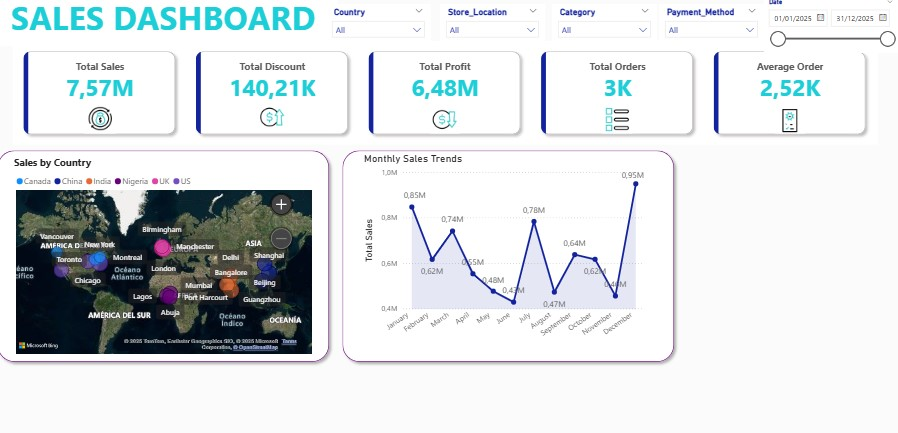

The page's visual inventory and layout, read from the dashboard file:
{"tool":"powerbi","page":{"name":"Page 1","canvas":[1500,820],"ordinal":0},"visuals":[{"type":"shape","box":[5.6,251.5,561.8,364.7],"z":0},{"type":"cardVisual","fields":{"Data":["public Sales Data.Total Sales","public Sales Data.Total Discount","public Sales Data.Total Profit","public Sales Data.Total Orders","public Sales Data.Average Order"]},"box":[39.1,81.1,1418.4,170.5],"z":1000},{"type":"textbox","box":[1.4,0,568.7,89.4],"z":2000},{"type":"slicer","fields":{"Values":["public Sales Data.Country"]},"box":[553.4,19.6,171.9,61.5],"z":3000},{"type":"slicer","fields":{"Values":["public Sales Data.Store_Location"]},"box":[739.2,19.6,171.9,61.5],"z":4000},{"type":"slicer","fields":{"Values":["public Sales Data.Category"]},"box":[923.7,19.6,171.9,61.5],"z":5000},{"type":"slicer","fields":{"Values":["public Sales Data.Payment_Method"]},"box":[1098.4,19.6,171.9,61.5],"z":6000},{"type":"slicer","fields":{"Values":["public Sales Data.Date"]},"box":[1270.3,5.6,219.4,93.6],"z":7000},{"type":"map","fields":{"Category":["public Sales Data.Store_Location"],"Size":["public Sales Data.Total Sales"],"Series":["public Sales Data.Country"]},"box":[39.1,290.7,494.7,308.8],"z":8000},{"type":"textbox","box":[0,264.1,208.2,34.9],"z":9000},{"type":"shape","box":[570.1,251.5,561.8,364.7],"z":9001}]}

Visuals, with their boxes on the page's 1500x820 design canvas (x1, y1, x2, y2). These are canvas units, not pixel positions in the 898x433 screenshot, which may show the page scaled, cropped or inside an application window:
shape: <region>6, 252, 567, 616</region>
cardVisual - public Sales Data.Total Sales x public Sales Data.Total Discount: <region>39, 81, 1458, 252</region>
textbox: <region>1, 0, 570, 89</region>
slicer - public Sales Data.Country: <region>553, 20, 725, 81</region>
slicer - public Sales Data.Store_Location: <region>739, 20, 911, 81</region>
slicer - public Sales Data.Category: <region>924, 20, 1096, 81</region>
slicer - public Sales Data.Payment_Method: <region>1098, 20, 1270, 81</region>
slicer - public Sales Data.Date: <region>1270, 6, 1490, 99</region>
map - public Sales Data.Store_Location x public Sales Data.Total Sales: <region>39, 291, 534, 600</region>
textbox: <region>0, 264, 208, 299</region>
shape: <region>570, 252, 1132, 616</region>
